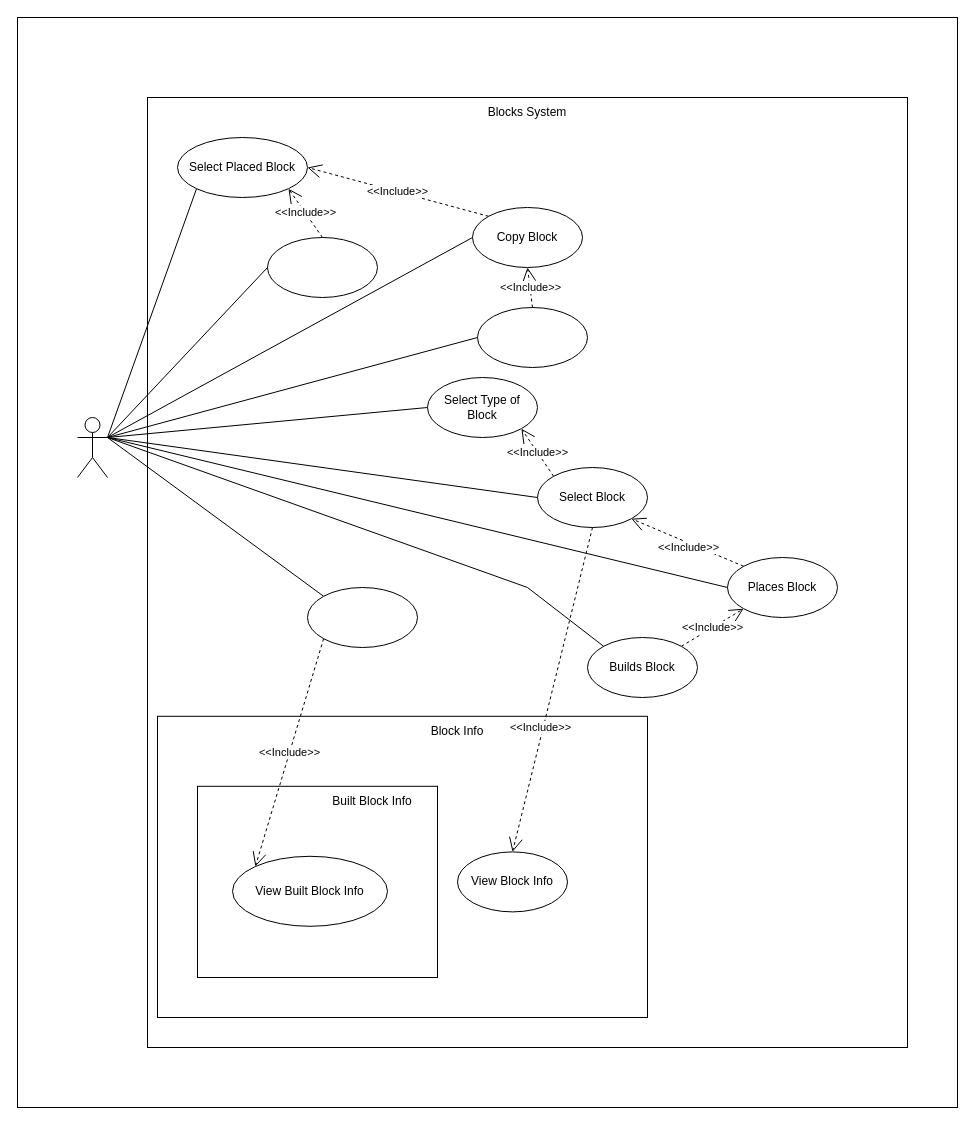
This 975x1125 diagram has some shape labels left out. The box of each missing label's shape, as (x1, y1, x2, y2) in pixels:
Clicks Built Block: (306, 586, 418, 648)
Destroy Block: (266, 236, 378, 298)
Player: (76, 416, 108, 478)
Save Schematic: (476, 306, 588, 368)
